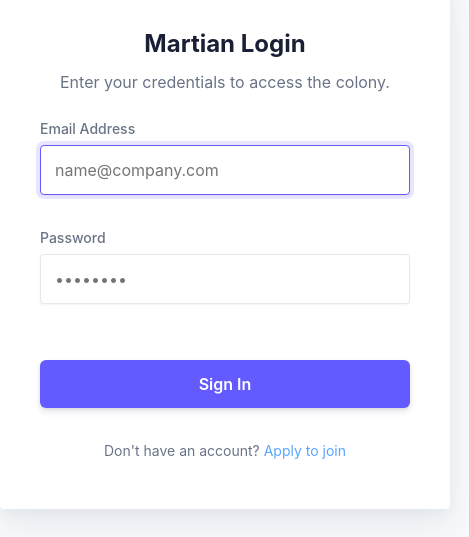
LoginForm › handles successful login
// Fill form
Type "demo@evilmartians.com" into the field labelled "Email Address" at (225, 170), box [40, 145, 410, 195]
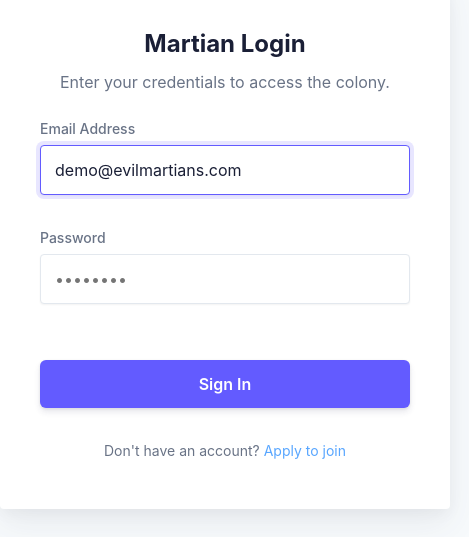
Type "password" into the password field labelled "Password" at (225, 279), box [40, 254, 410, 304]
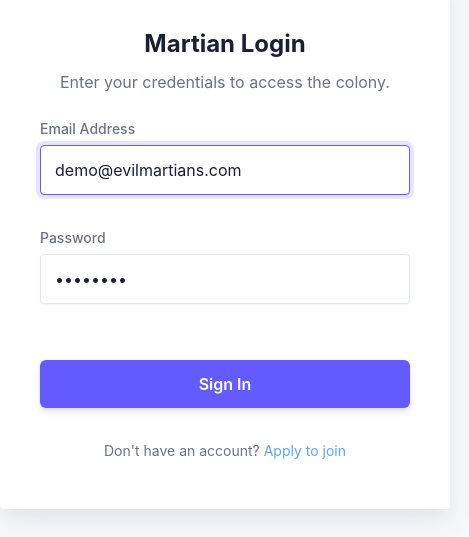
Click the button "Sign In" at (225, 384), box [40, 360, 410, 408]
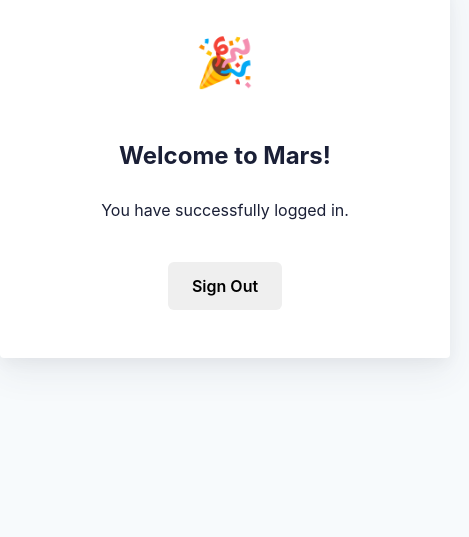
Expected: the heading "Welcome to Mars!" is shown, [119, 138, 331, 174]
